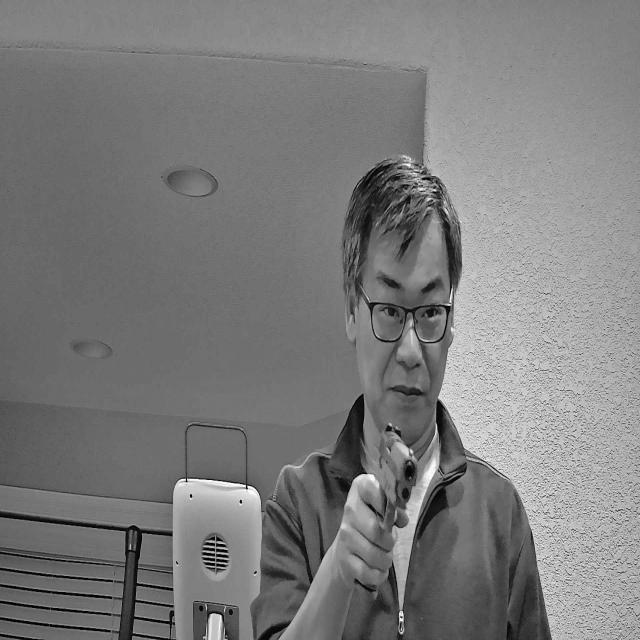Hand-Gun: (308, 331, 449, 640)
